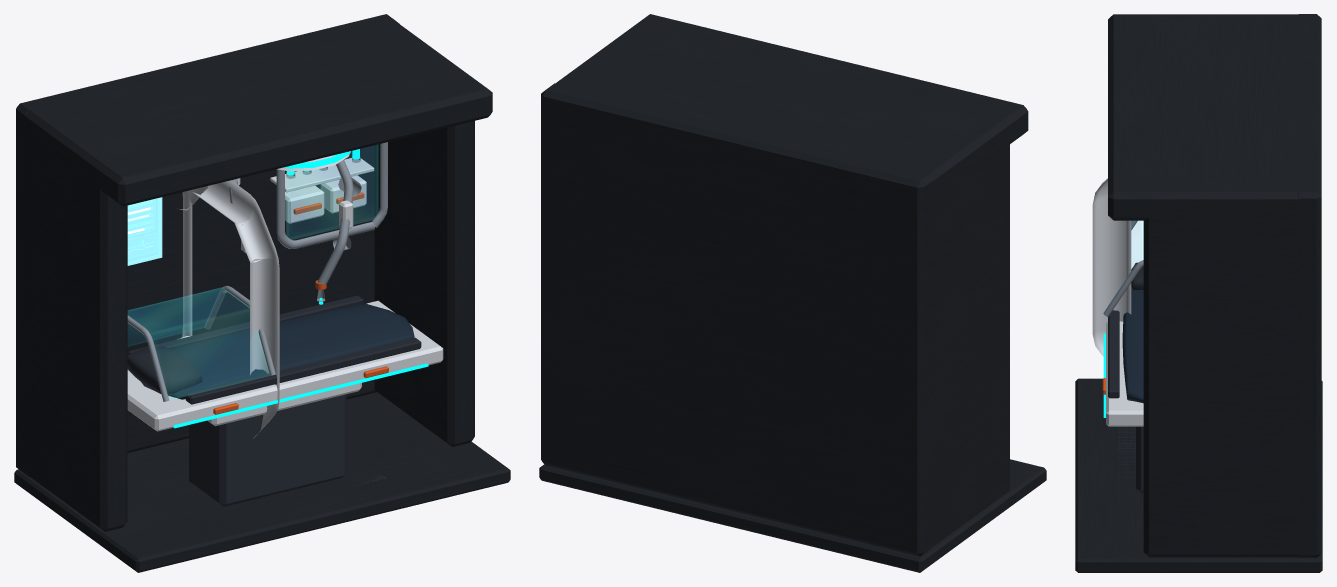
Rendered from med_autodoc_r1_01.glb.
3 renders of one model, left to right at view 1: azimuth 30°, elevation 25°; view 2: azimuth 150°, elevation 25°; view 3: azimuth 270°, elevation 25°, orthographic. The views are drawn at different scales.
Visible parts, largest first — view 1: Autodoc01_OctagonalGunmetalBulkhead, Autodoc01_WhiteSurgicalBedScannerAndCowlings, Autodoc01_TranslucentCanopyAndPharmacyGlass, Autodoc01_CarbonSlatePedestal, Autodoc01_OrbitalNavyPatientPad, Autodoc01_CharcoalBiometricBolsters, Autodoc01_MachinedRoboticArmsAndGantry, Autodoc01_OLEDMedbayVitals, Autodoc01_CyanScannerAndVialsLED, Autodoc01_SignalOrangeBioLocksAndLasers; view 2: Autodoc01_OctagonalGunmetalBulkhead; view 3: Autodoc01_OctagonalGunmetalBulkhead, Autodoc01_WhiteSurgicalBedScannerAndCowlings, Autodoc01_OrbitalNavyPatientPad, Autodoc01_CharcoalBiometricBolsters, Autodoc01_CarbonSlatePedestal, Autodoc01_MachinedRoboticArmsAndGantry, Autodoc01_TranslucentCanopyAndPharmacyGlass.
Boxes of the visible parts, x1,y1,x2,y2 form: Autodoc01_OctagonalGunmetalBulkhead: [14, 14, 510, 572]; Autodoc01_WhiteSurgicalBedScannerAndCowlings: [127, 154, 443, 438]; Autodoc01_TranslucentCanopyAndPharmacyGlass: [128, 145, 377, 399]; Autodoc01_CarbonSlatePedestal: [153, 394, 386, 506]; Autodoc01_OrbitalNavyPatientPad: [141, 303, 414, 399]; Autodoc01_CharcoalBiometricBolsters: [127, 295, 421, 404]; Autodoc01_MachinedRoboticArmsAndGantry: [127, 142, 387, 401]; Autodoc01_OLEDMedbayVitals: [127, 197, 162, 265]; Autodoc01_CyanScannerAndVialsLED: [173, 149, 428, 428]; Autodoc01_SignalOrangeBioLocksAndLasers: [213, 192, 388, 414]; Autodoc01_OctagonalGunmetalBulkhead: [539, 14, 1046, 572]; Autodoc01_OctagonalGunmetalBulkhead: [1075, 14, 1322, 572]; Autodoc01_WhiteSurgicalBedScannerAndCowlings: [1092, 178, 1143, 426]; Autodoc01_OrbitalNavyPatientPad: [1122, 287, 1143, 403]; Autodoc01_CharcoalBiometricBolsters: [1108, 262, 1143, 398]; Autodoc01_CarbonSlatePedestal: [1118, 426, 1143, 493]; Autodoc01_MachinedRoboticArmsAndGantry: [1103, 220, 1143, 316]; Autodoc01_TranslucentCanopyAndPharmacyGlass: [1106, 221, 1142, 307].
Bounding box in the file's own units: 2.18 × 2.12 × 1.25.
Materials: 12 (12 with a texture image).
